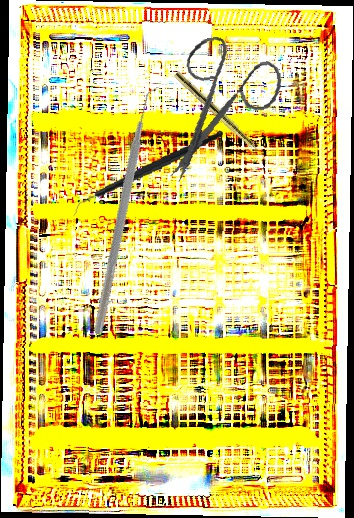Chopper: (23, 84, 239, 335), (64, 129, 231, 218)
Handpiece: (171, 70, 274, 166)
Iris Scissors: (148, 27, 296, 185)
